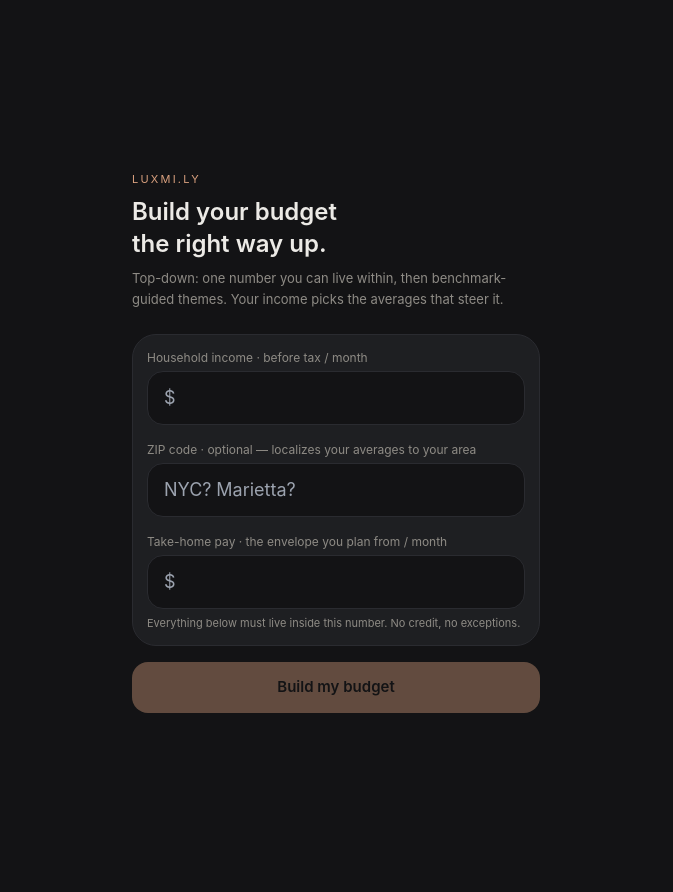
Test: App — an optimizer, not a tracker › locking a category disables its input
Type "10000" into the number field named "Household income before tax per month" at (336, 398), box [147,371,525,425]
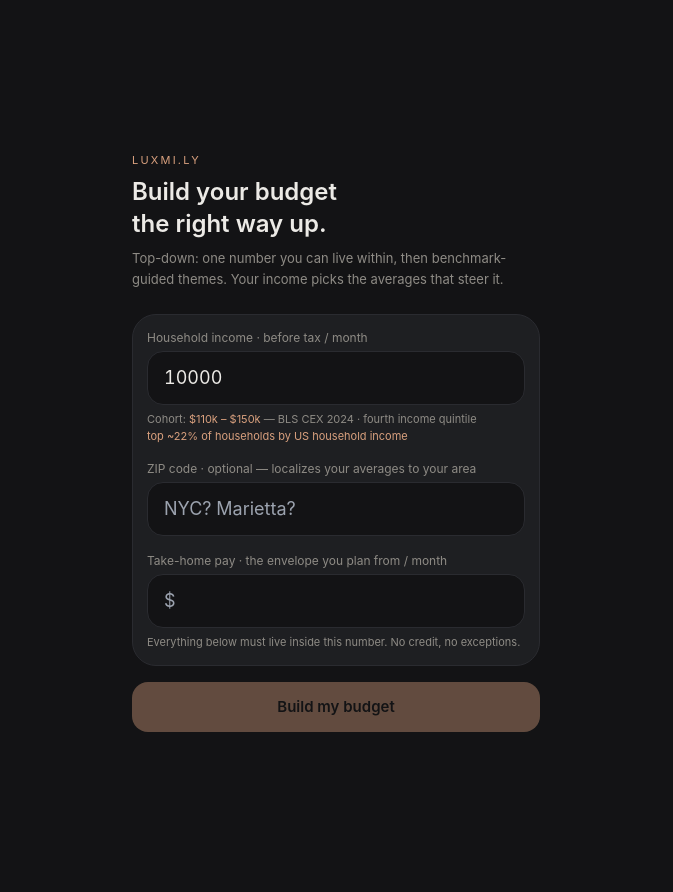
Type "6800" into the number field named "Take-home pay per month" at (336, 601), box [147,574,525,628]
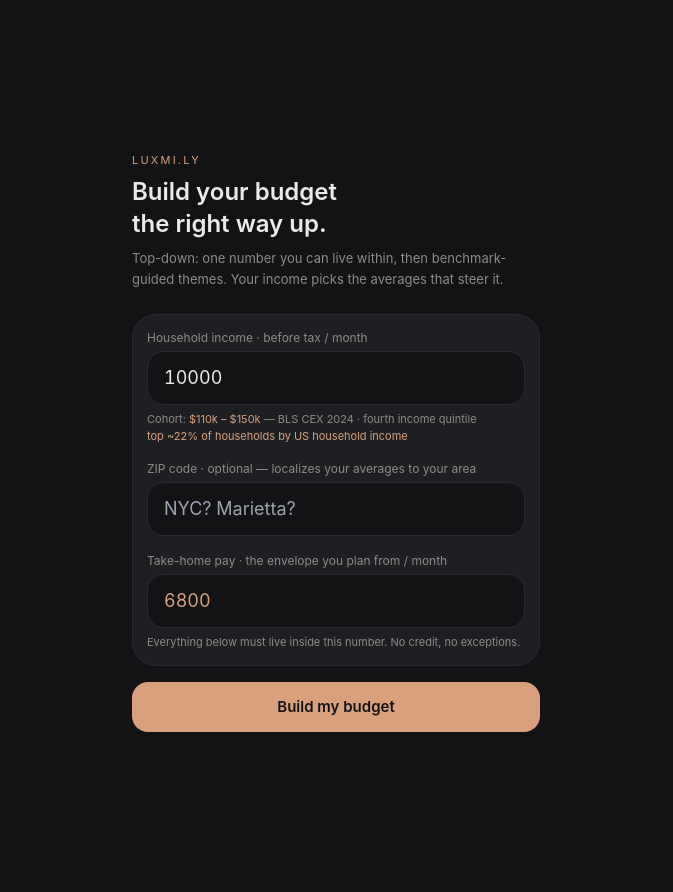
Click the button "Build my budget" at (336, 707), box [132,682,540,732]
(page scrolled)
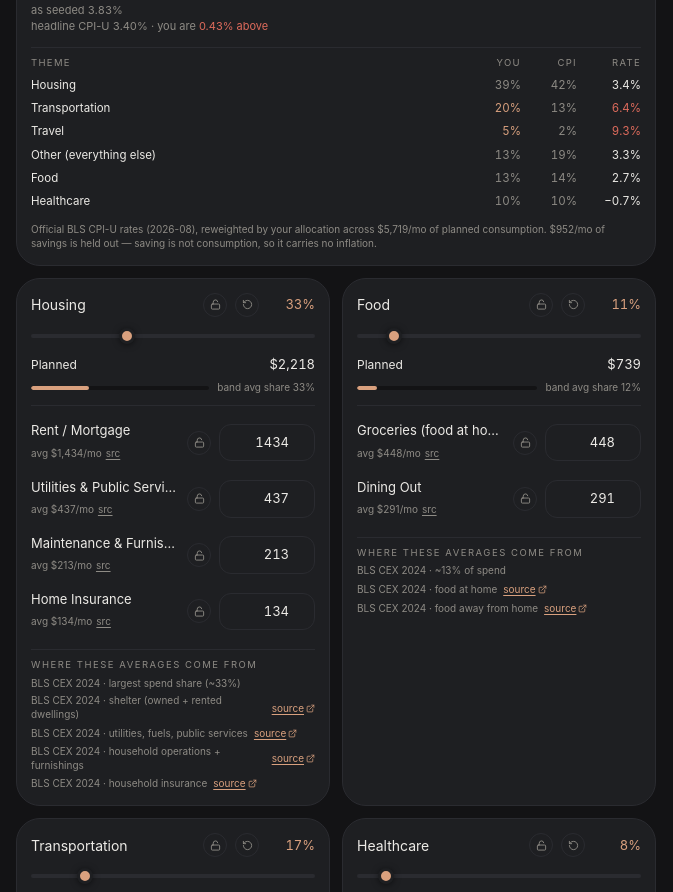
Click the button named "Lock Groceries (food at home)" at (525, 442), box [513,430,537,454]
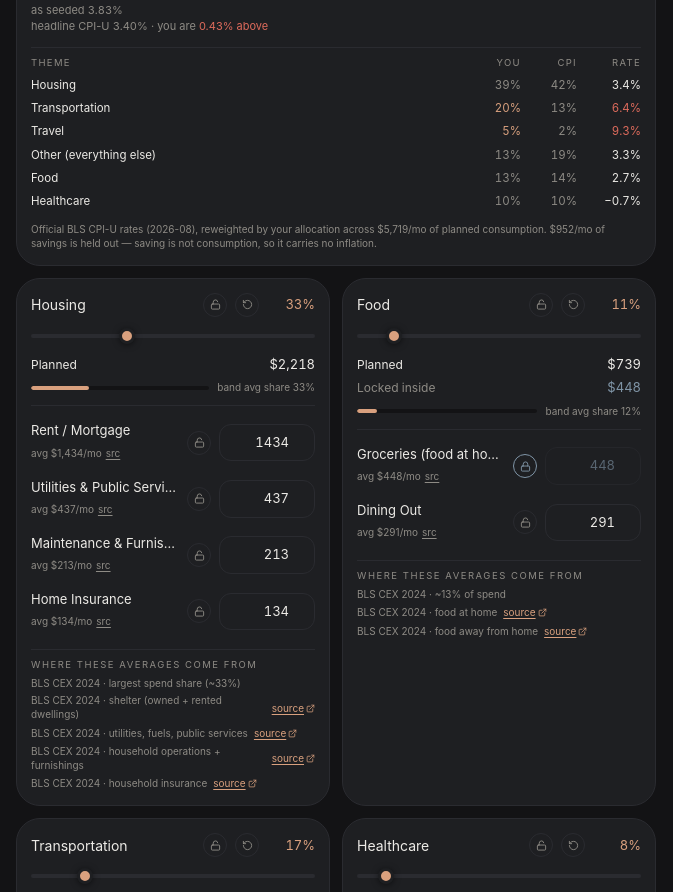
Result: the number field named "Groceries (food at home) plan" is disabled at [545,447,641,485]
